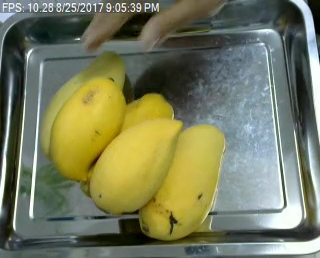Mango: (140, 122, 225, 238), (35, 50, 127, 156), (91, 115, 183, 212), (47, 77, 127, 179), (119, 92, 176, 136)
